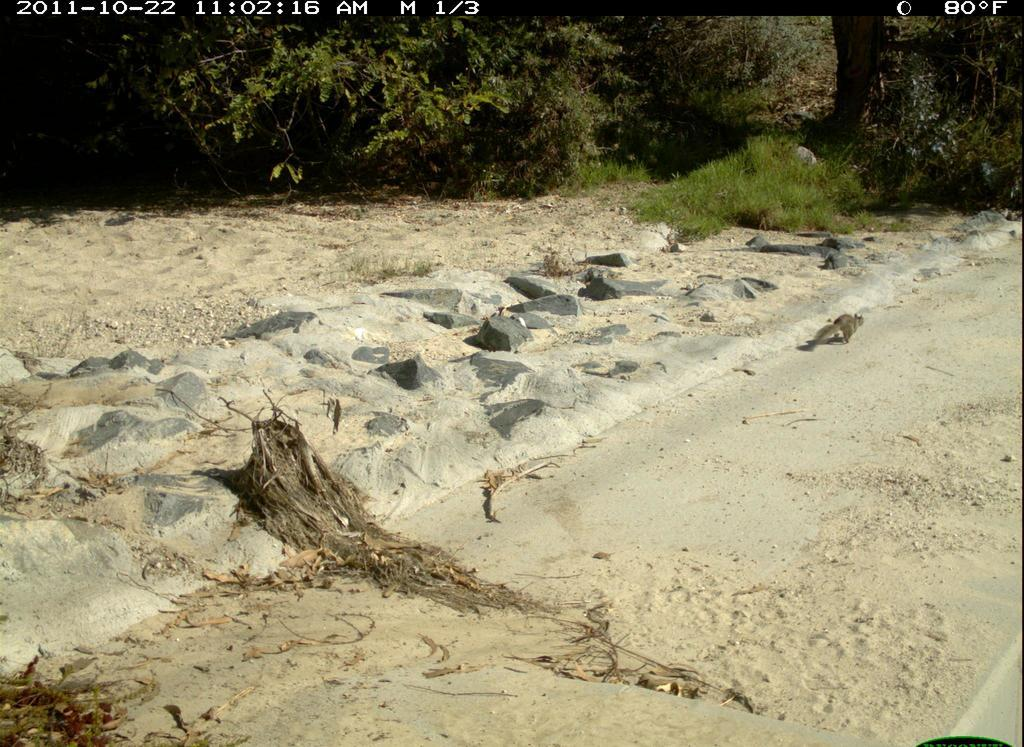squirrel: (799, 305, 884, 353)
